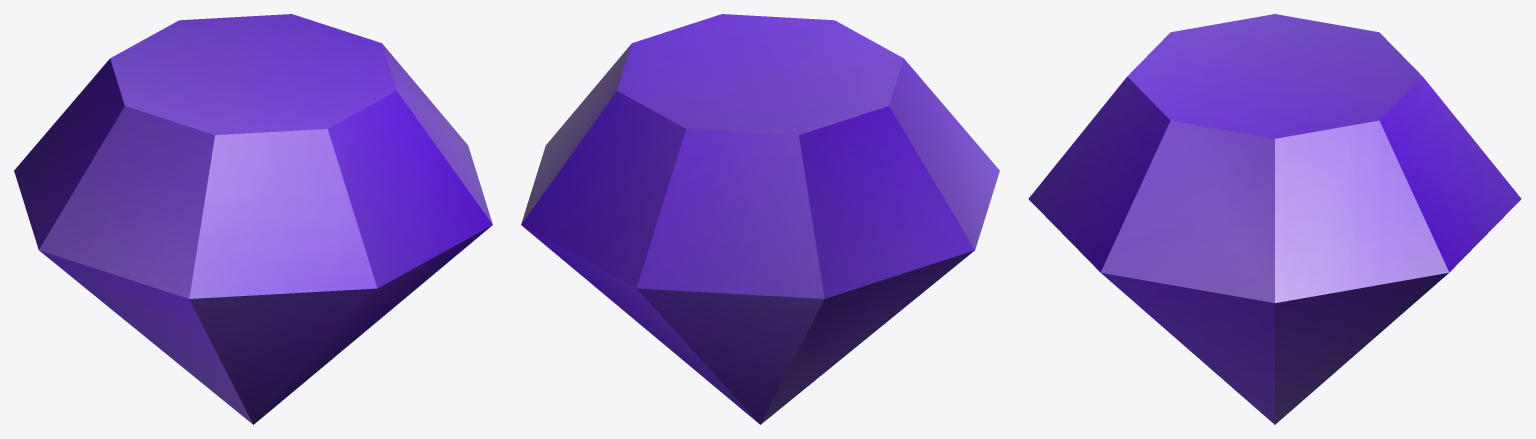
The model's file is Raw_V1.fbx.
3 renders of one model, left to right at view 1: azimuth 30°, elevation 25°; view 2: azimuth 150°, elevation 25°; view 3: azimuth 270°, elevation 25°, orthographic.
Parts seen in each view (by area): view 1: AmethstCrystal; view 2: AmethstCrystal; view 3: AmethstCrystal.
Part boxes in pixels (<box>): AmethstCrystal: <box>14,14,492,424</box>; AmethstCrystal: <box>521,14,999,424</box>; AmethstCrystal: <box>1028,14,1521,424</box>.
Bounding box in the file's own units: 52.16 × 40.67 × 52.16.
